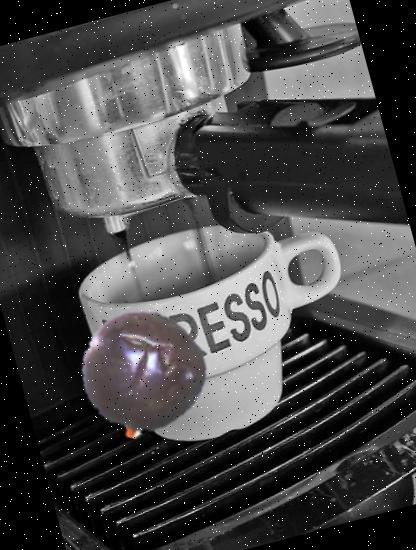Passion: (65, 296, 223, 454)
